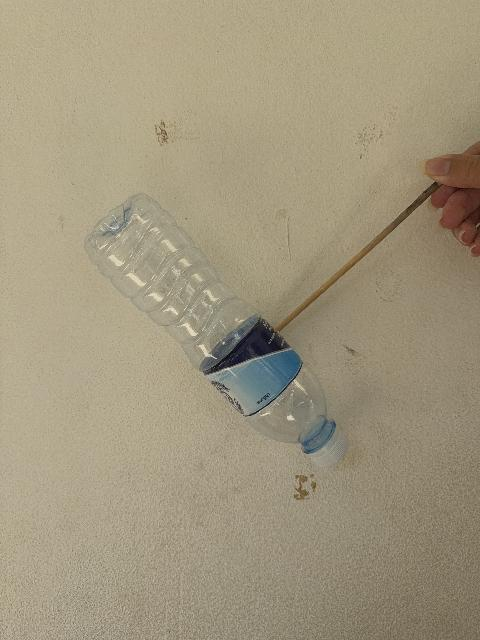bottle: (85, 194, 348, 466)
